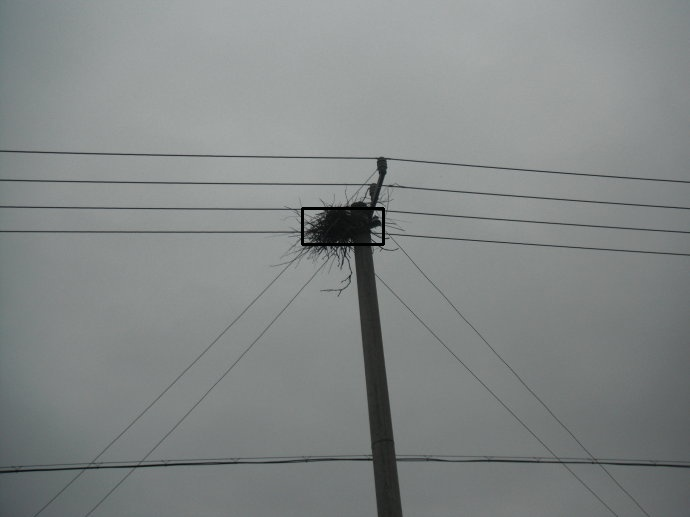bird-nest: (302, 208, 383, 244)
